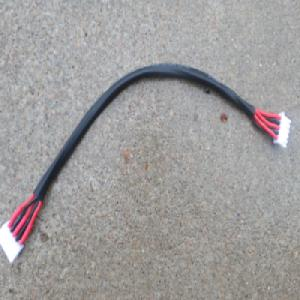Wire: (0, 60, 292, 265)
